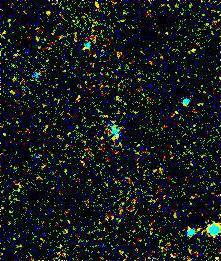star: (35, 0, 65, 30)
